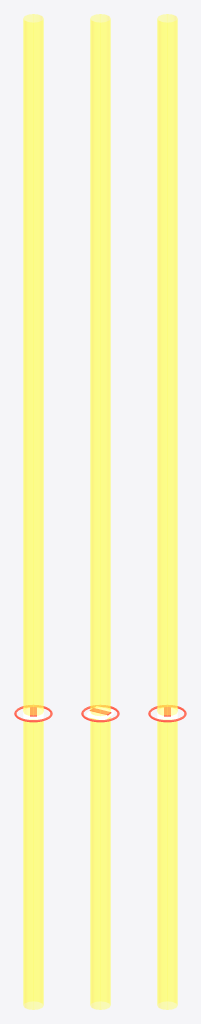
Rendered from order-beacon.glb.
3 renders of one model, left to right at view 1: azimuth 90°, elevation 25°; view 2: azimuth 150°, elevation 25°; view 3: azimuth 270°, elevation 25°, orthographic.
Visible parts, largest first — view 1: beacon pillar, beacon stripe, beacon box; view 2: beacon pillar, beacon stripe, beacon box; view 3: beacon pillar, beacon stripe, beacon box.
Part boxes in pixels (left/top/right/bottom): beacon pillar: left=23, top=14, right=43, bottom=1009; beacon stripe: left=14, top=705, right=52, bottom=722; beacon box: left=23, top=708, right=43, bottom=719; beacon pillar: left=90, top=14, right=110, bottom=1009; beacon stripe: left=81, top=705, right=119, bottom=722; beacon box: left=86, top=706, right=114, bottom=719; beacon pillar: left=157, top=14, right=177, bottom=1009; beacon stripe: left=148, top=705, right=186, bottom=722; beacon box: left=157, top=708, right=177, bottom=719.
Bounding box in the file's own units: 1.7 × 48 × 1.7.
